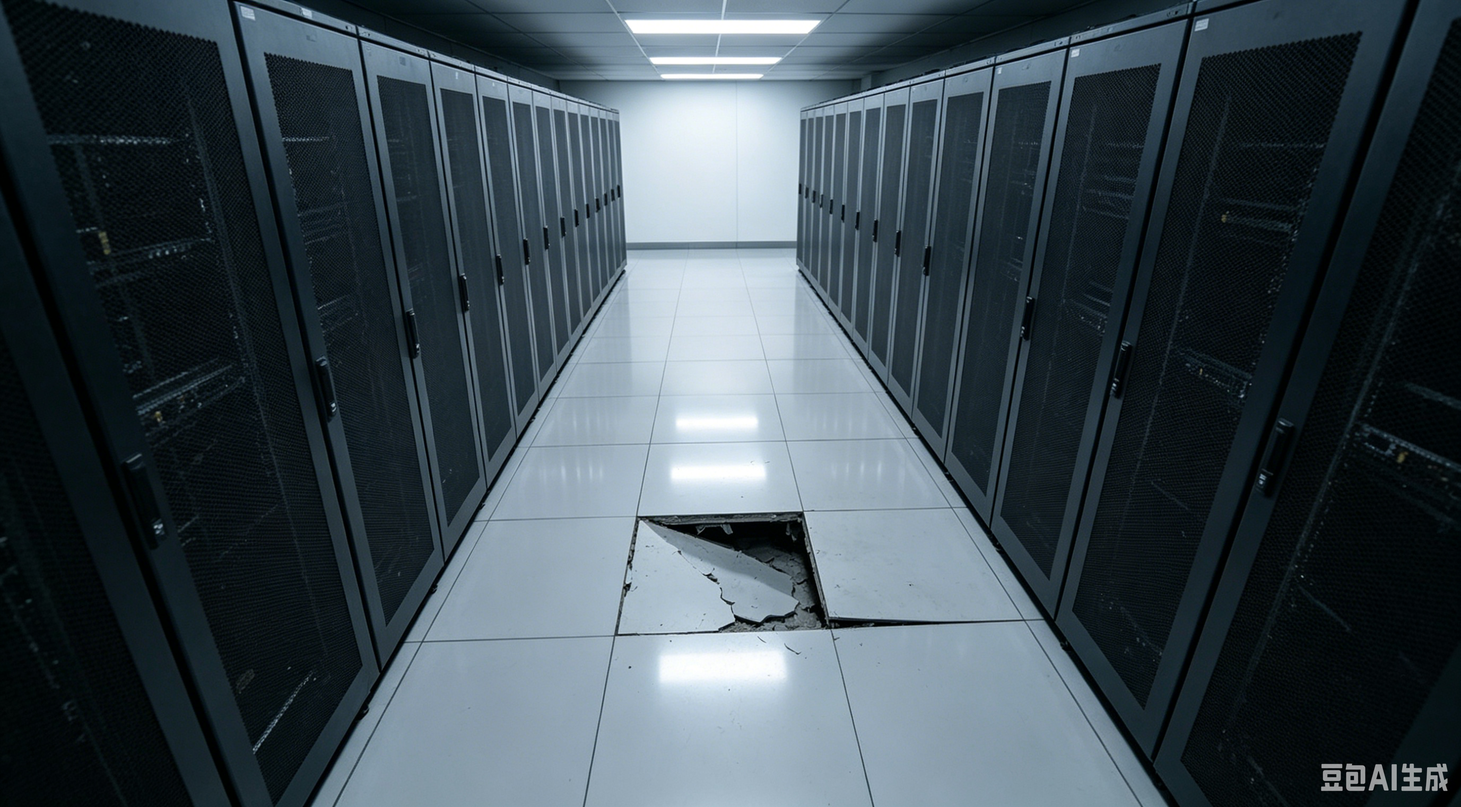floor_defect: (619, 504, 834, 642), (822, 592, 999, 639)
